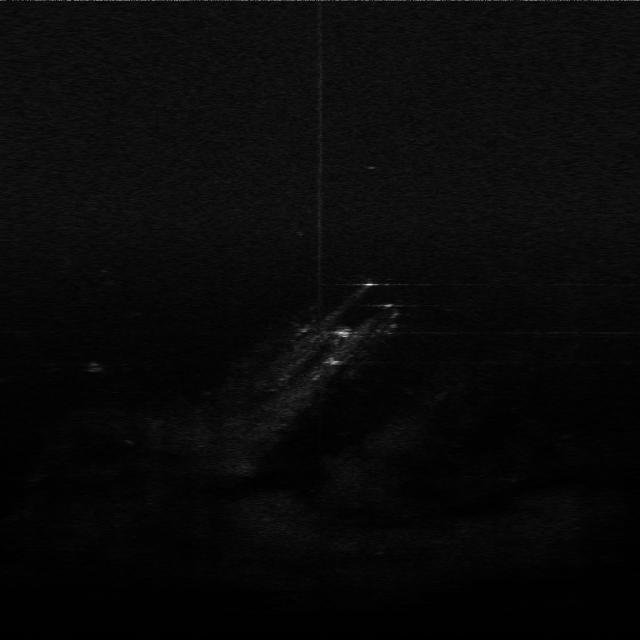rov: (326, 322, 356, 342)
